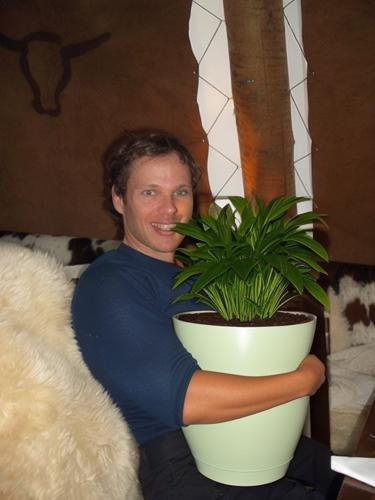person: (71, 129, 331, 499)
person/hand: (256, 340, 309, 398), (244, 265, 273, 317)
person/head: (111, 130, 199, 252)
pottedplant: (171, 196, 330, 486)
